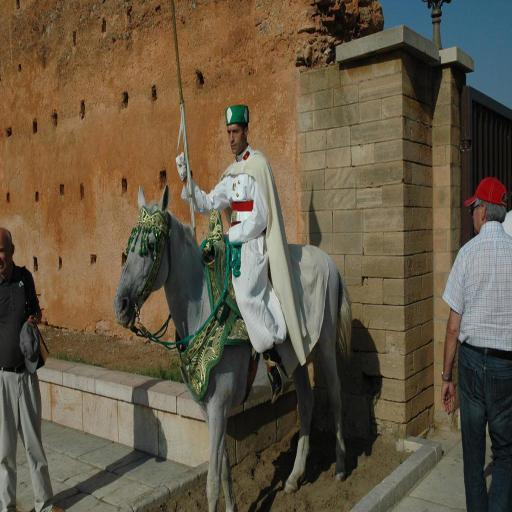Horse: (114, 184, 351, 511)
